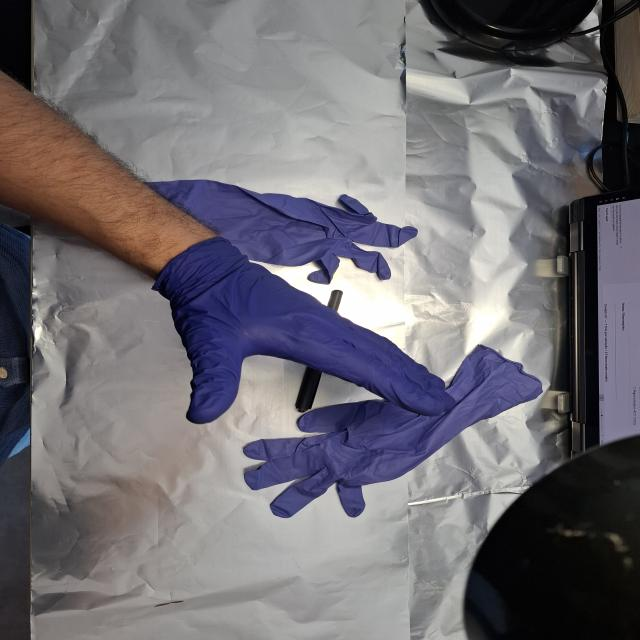glove_on: (154, 235, 458, 426)
